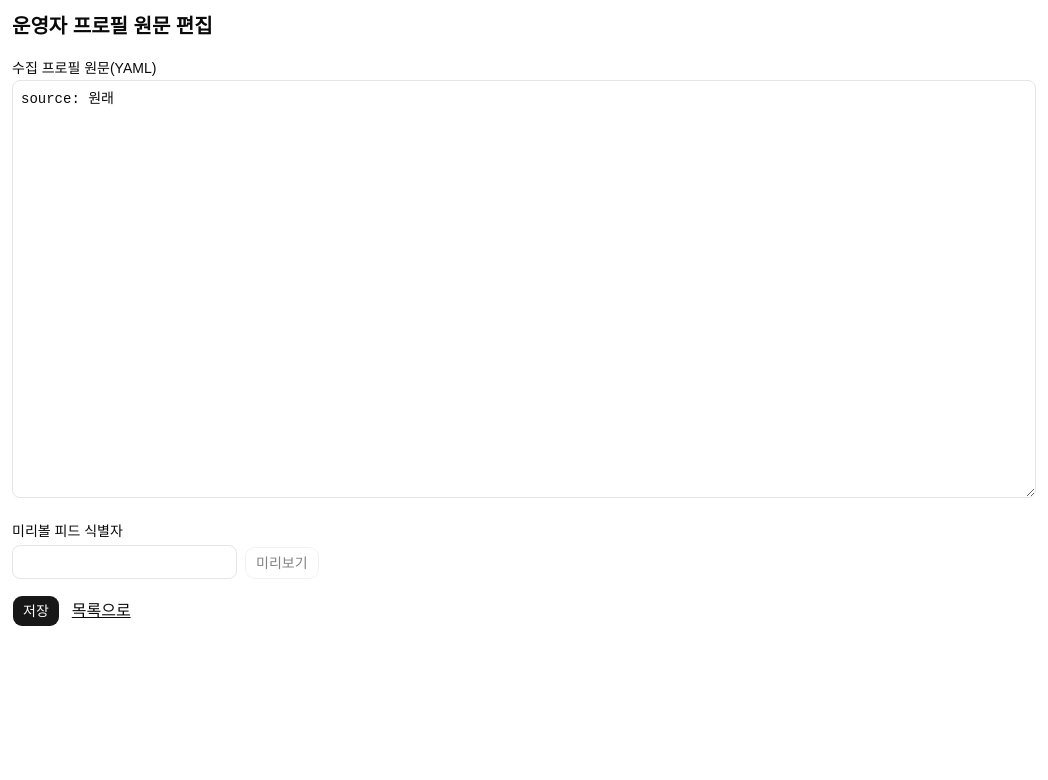
Scenario: ProfileEditorPage › 등록된 원문을 읽어 고치고, 꺼진 피드 · 소스 · 더한 피드를 알린다
The image size is (1048, 780).
Replace the text in the text box labelled "수집 프로필 원문(YAML)" with "source: 새": point(524, 289) [12,80,1036,498]
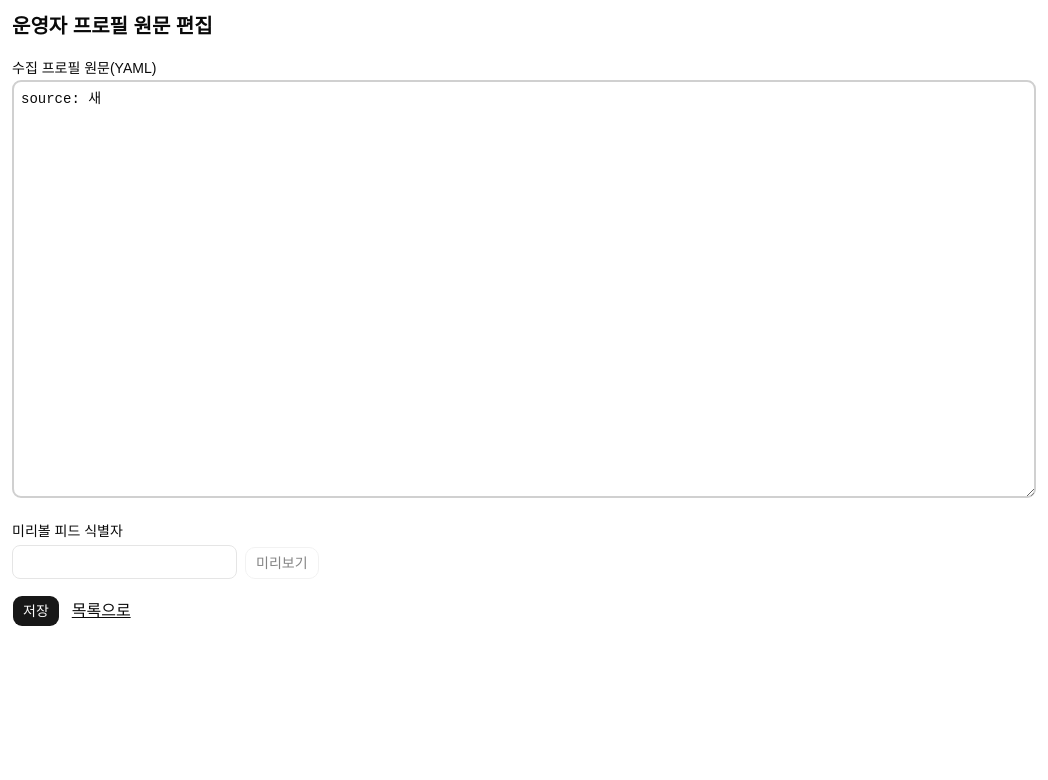
Click the button "저장": point(36, 611) [12,595,60,627]
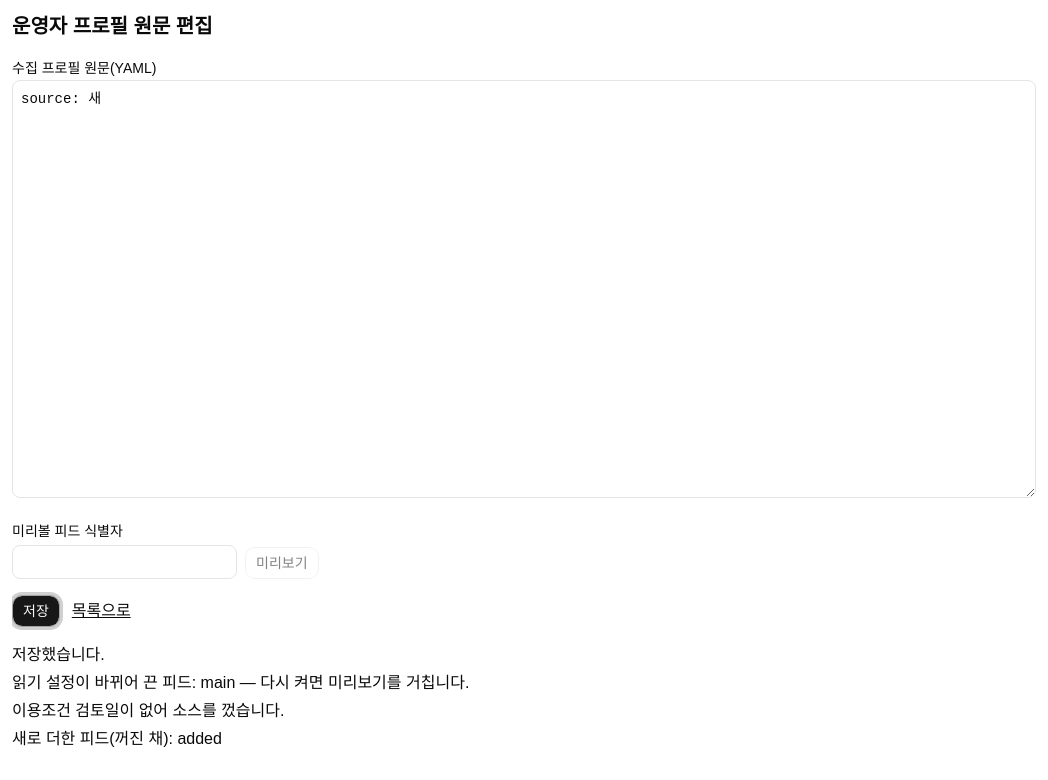
Check: the message shows "읽기 설정이 바뀌어 끈 피드: main", box [12,646,469,747]
Check: the message shows "이용조건 검토일이 없어 소스를 껐습니다.", box [12,702,284,719]
Check: the message shows "새로 더한 피드(꺼진 채): added", box [12,646,469,747]
